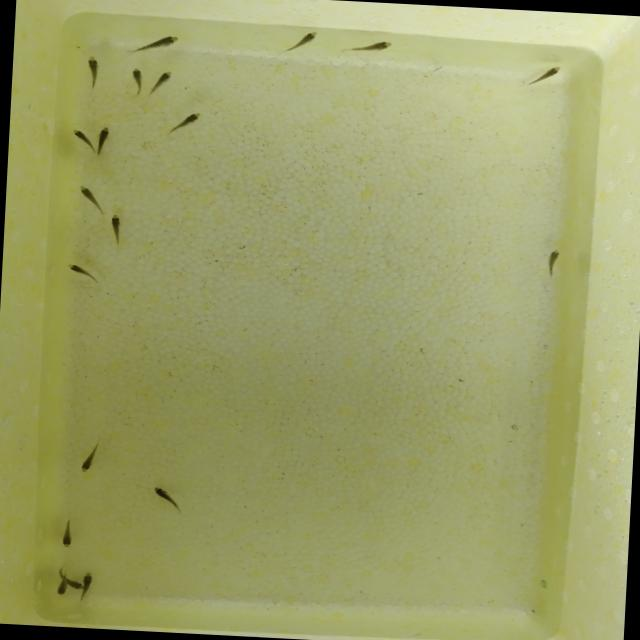fingerling: (520, 61, 567, 94), (76, 436, 110, 477), (129, 32, 182, 58), (150, 484, 188, 516), (340, 38, 398, 58), (280, 28, 320, 56), (75, 182, 106, 218), (64, 260, 104, 286), (168, 110, 204, 138), (148, 68, 177, 100), (105, 212, 129, 247), (84, 54, 103, 94), (58, 516, 78, 550), (543, 246, 561, 280), (126, 65, 144, 98), (70, 126, 92, 151), (54, 569, 70, 596), (96, 125, 114, 148), (68, 581, 86, 592), (82, 570, 95, 583)
